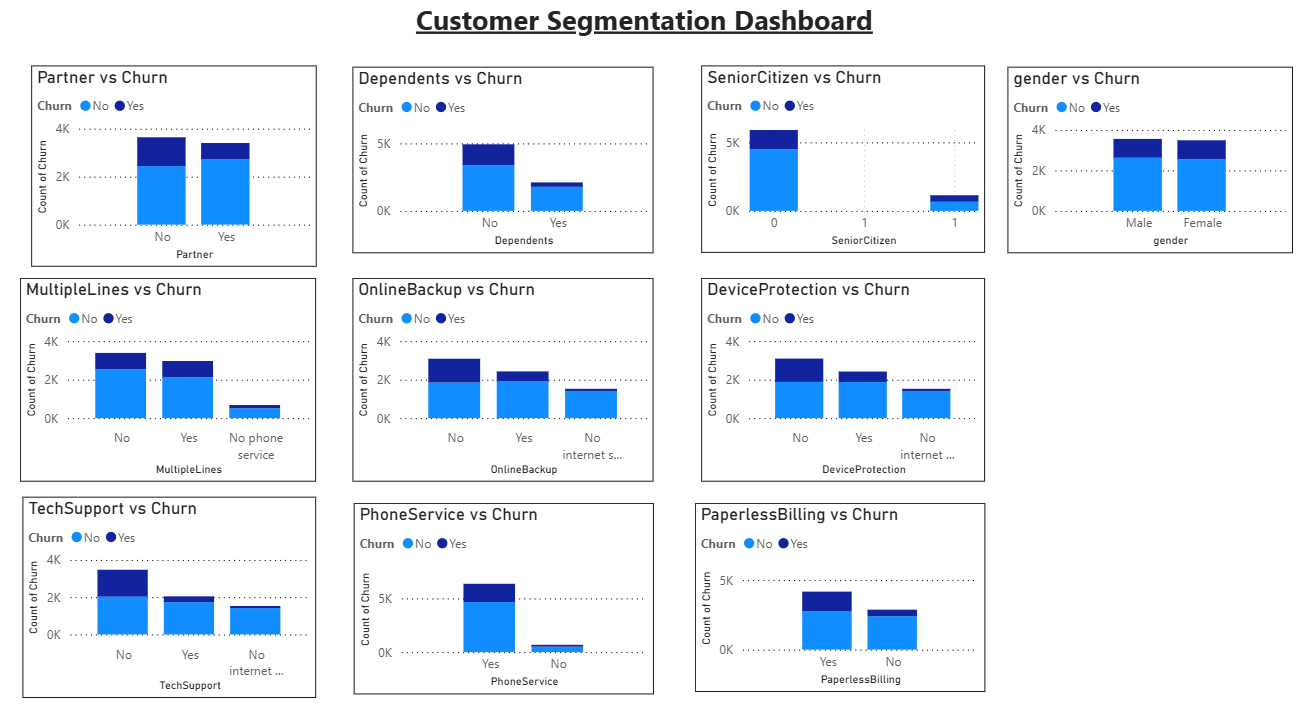

What the dashboard file says about the page in this screenshot:
{"tool":"powerbi","page":{"name":"Page 2","canvas":[1280,720],"ordinal":1},"visuals":[{"type":"textbox","box":[205.4,12.2,849.9,58.7],"z":0},{"type":"columnChart","title":"Partner vs Churn","fields":{"Category":["Telco-Customer-Churn.Partner"],"Series":["Telco-Customer-Churn.Churn"],"Y":["CountNonNull(Telco-Customer-Churn.Churn)"]},"box":[30.6,80.7,278.8,196.9],"z":1000},{"type":"columnChart","title":"Dependents vs Churn","fields":{"Category":["Telco-Customer-Churn.Dependents"],"Y":["CountNonNull(Telco-Customer-Churn.Churn)"],"Series":["Telco-Customer-Churn.Churn"]},"box":[344.8,81.9,294.7,182.2],"z":2000},{"type":"columnChart","title":"SeniorCitizen vs Churn","fields":{"Category":["Telco-Customer-Churn.SeniorCitizen"],"Series":["Telco-Customer-Churn.Churn"],"Y":["CountNonNull(Telco-Customer-Churn.Churn)"]},"box":[686,80.7,277.6,183.4],"z":3000},{"type":"columnChart","title":"gender vs Churn","fields":{"Category":["Telco-Customer-Churn.gender"],"Series":["Telco-Customer-Churn.Churn"],"Y":["CountNonNull(Telco-Customer-Churn.Churn)"]},"box":[985.6,81.9,278.8,182.2],"z":4000},{"type":"columnChart","title":"PhoneService vs Churn","fields":{"Category":["Telco-Customer-Churn.PhoneService"],"Series":["Telco-Customer-Churn.Churn"],"Y":["CountNonNull(Telco-Customer-Churn.Churn)"]},"box":[346.1,508.7,293.5,187.1],"z":5000},{"type":"columnChart","title":"MultipleLines vs Churn","fields":{"Category":["Telco-Customer-Churn.MultipleLines"],"Y":["CountNonNull(Telco-Customer-Churn.Churn)"],"Series":["Telco-Customer-Churn.Churn"]},"box":[19.6,288.6,289.8,199.3],"z":6000},{"type":"columnChart","title":"OnlineBackup vs Churn","fields":{"Category":["Telco-Customer-Churn.OnlineBackup"],"Y":["CountNonNull(Telco-Customer-Churn.Churn)"],"Series":["Telco-Customer-Churn.Churn"]},"box":[344.8,288.6,294.7,199.3],"z":7000},{"type":"columnChart","title":"DeviceProtection vs Churn","fields":{"Category":["Telco-Customer-Churn.DeviceProtection"],"Y":["CountNonNull(Telco-Customer-Churn.Churn)"],"Series":["Telco-Customer-Churn.Churn"]},"box":[686,288.6,277.6,199.3],"z":8000},{"type":"columnChart","title":"PaperlessBilling vs Churn","fields":{"Category":["Telco-Customer-Churn.PaperlessBilling"],"Y":["CountNonNull(Telco-Customer-Churn.Churn)"],"Series":["Telco-Customer-Churn.Churn"]},"box":[679.9,508.7,283.7,184.6],"z":9000},{"type":"columnChart","title":"TechSupport vs Churn","fields":{"Category":["Telco-Customer-Churn.TechSupport"],"Y":["CountNonNull(Telco-Customer-Churn.Churn)"],"Series":["Telco-Customer-Churn.Churn"]},"box":[22,502.6,287.4,196.9],"z":10000}]}

Visuals, with their boxes in screenshot pixels (x1, y1, x2, y2), scaled from the page's 1280x720 canvas onto the 1306x716 screenshot:
textbox: 210,12,1077,71
"Partner vs Churn" columnChart: 31,80,316,276
"Dependents vs Churn" columnChart: 352,81,652,263
"SeniorCitizen vs Churn" columnChart: 700,80,983,263
"gender vs Churn" columnChart: 1006,81,1290,263
"PhoneService vs Churn" columnChart: 353,506,653,692
"MultipleLines vs Churn" columnChart: 20,287,316,485
"OnlineBackup vs Churn" columnChart: 352,287,652,485
"DeviceProtection vs Churn" columnChart: 700,287,983,485
"PaperlessBilling vs Churn" columnChart: 694,506,983,689
"TechSupport vs Churn" columnChart: 22,500,316,696
